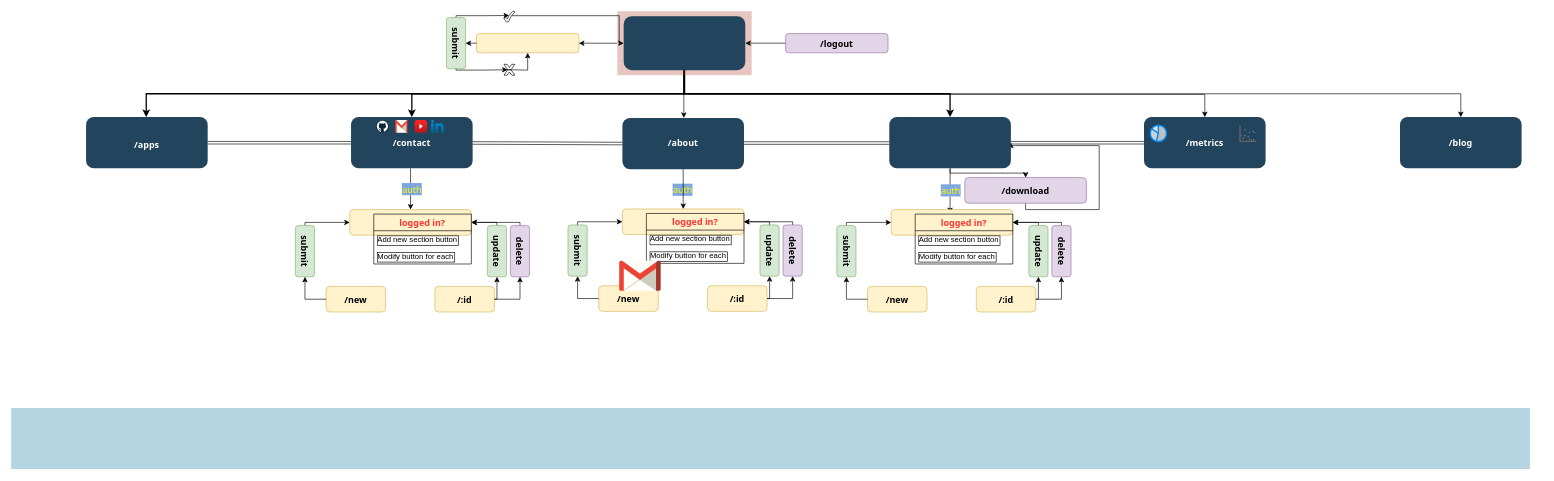
The diagram is 1554 pixels wide and 481 high, and some of its shapes have lost their labels. Here are the shapes that lost their labels. From the top down, the centre of each, then its label:
At point (527, 43): "/login".
At point (684, 43): "ian.rackson.com".
At point (950, 142): "/resume".
